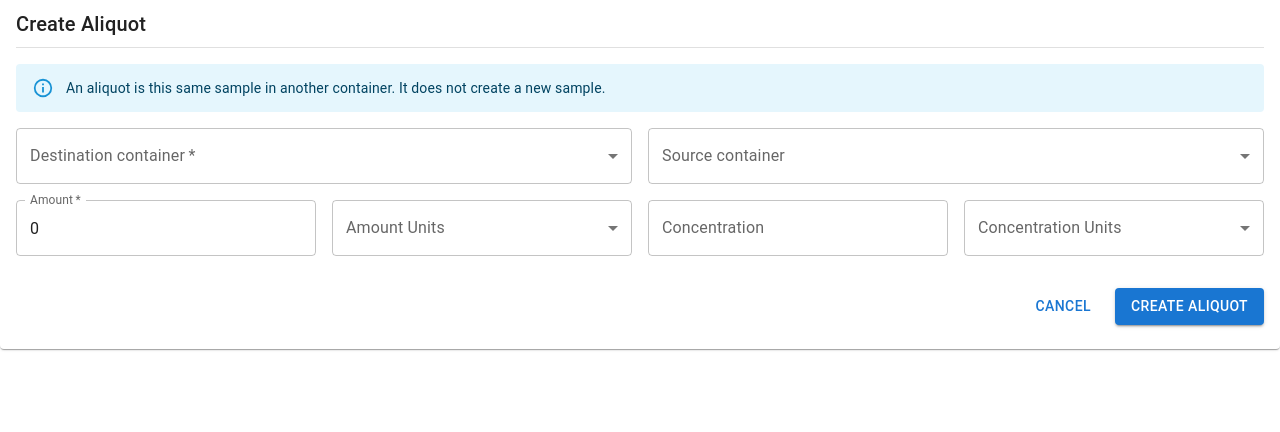
Test: AliquotForm › handles API errors gracefully
Expected: the number field labelled "Amount *" is shown, [16,200,316,256]
Click the dropdown named "Destination container" next to "Destination container" at [324, 156], box [16,128,632,184]
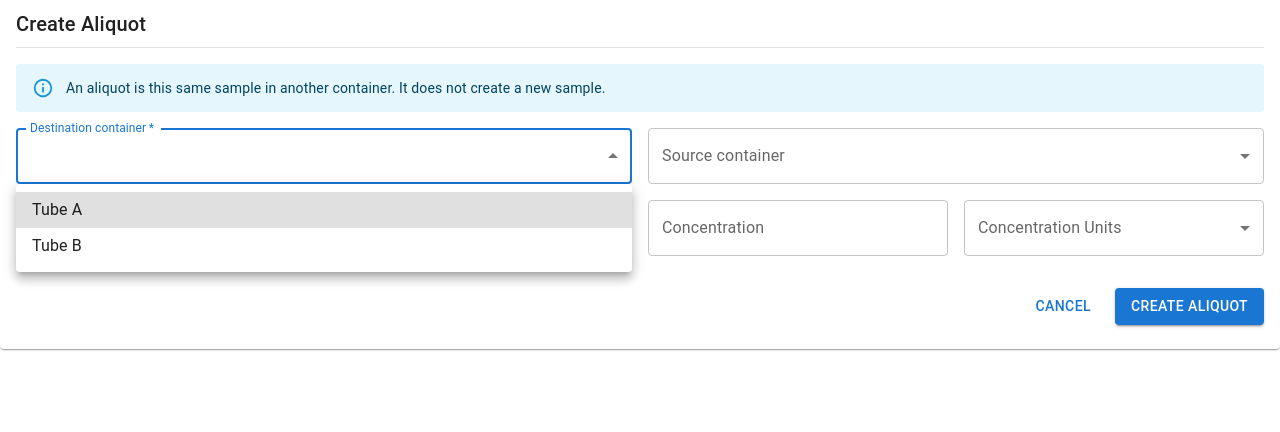
Click the option "Tube A" at [57, 210], box [16,192,632,228]
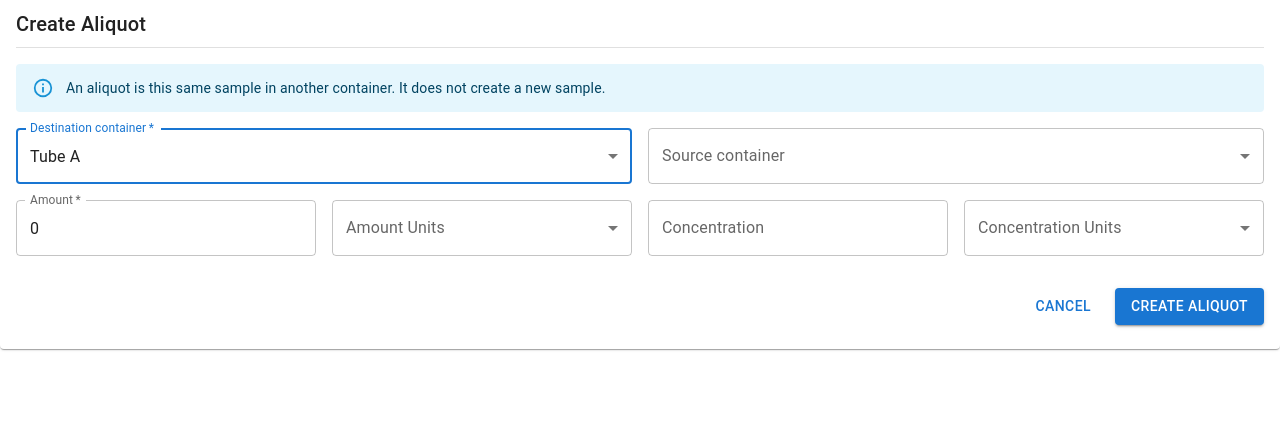
Replace the text in the number field labelled "Amount *" with "2" at [166, 228], box [16,200,316,256]
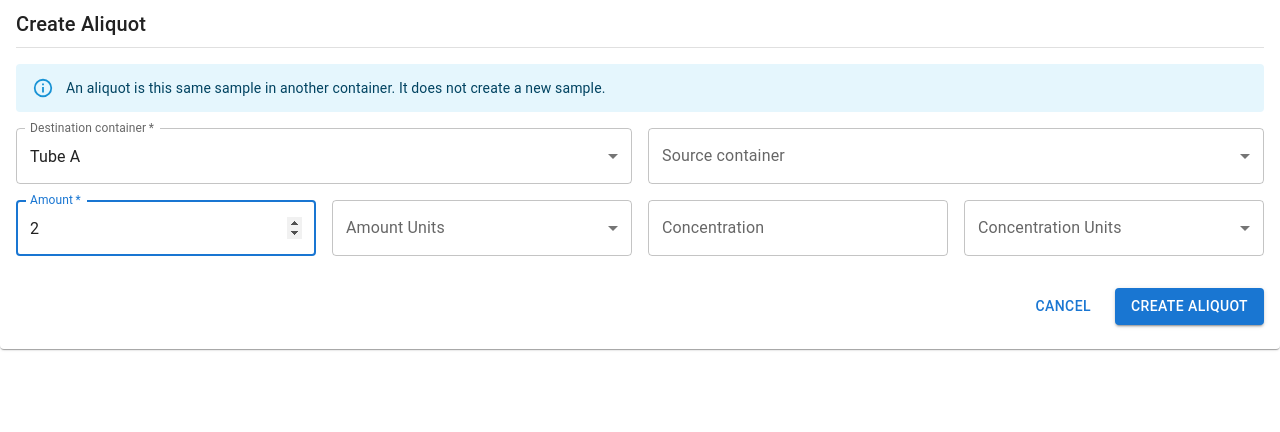
Click the button "Create Aliquot" at [1190, 306], box [1115,288,1264,324]
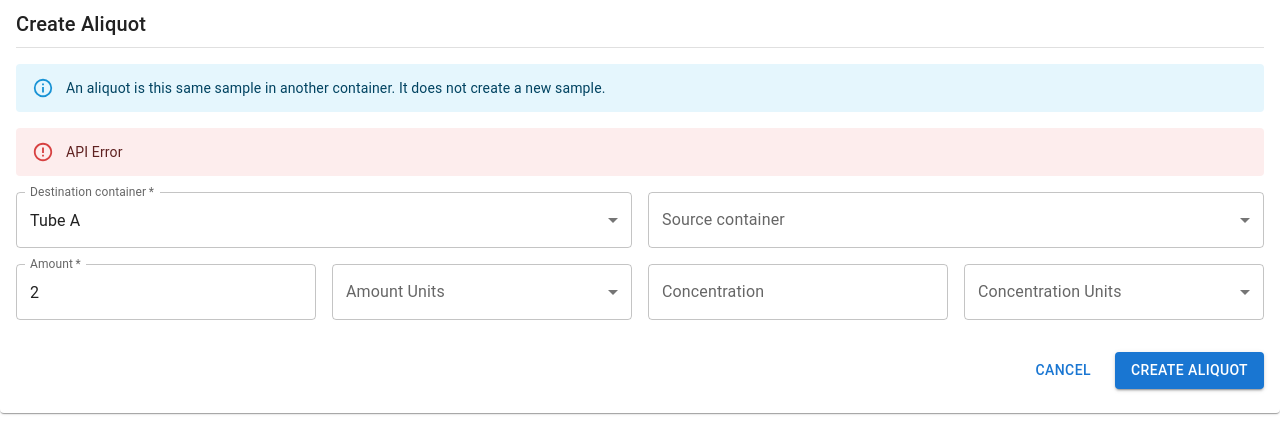
Expected: the text "API Error" is shown, [66,144,123,160]
